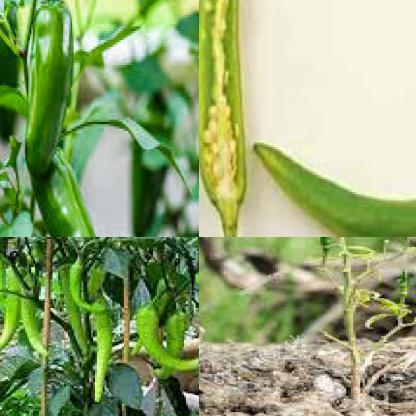Green Chilli: (251, 140, 415, 236), (199, 0, 247, 231), (25, 1, 77, 174), (25, 158, 109, 236), (126, 302, 198, 373), (58, 262, 89, 361), (93, 296, 116, 404), (68, 258, 112, 314), (155, 310, 190, 377), (20, 297, 52, 358), (0, 274, 24, 355), (0, 252, 8, 321), (400, 269, 410, 295), (320, 237, 342, 246)
